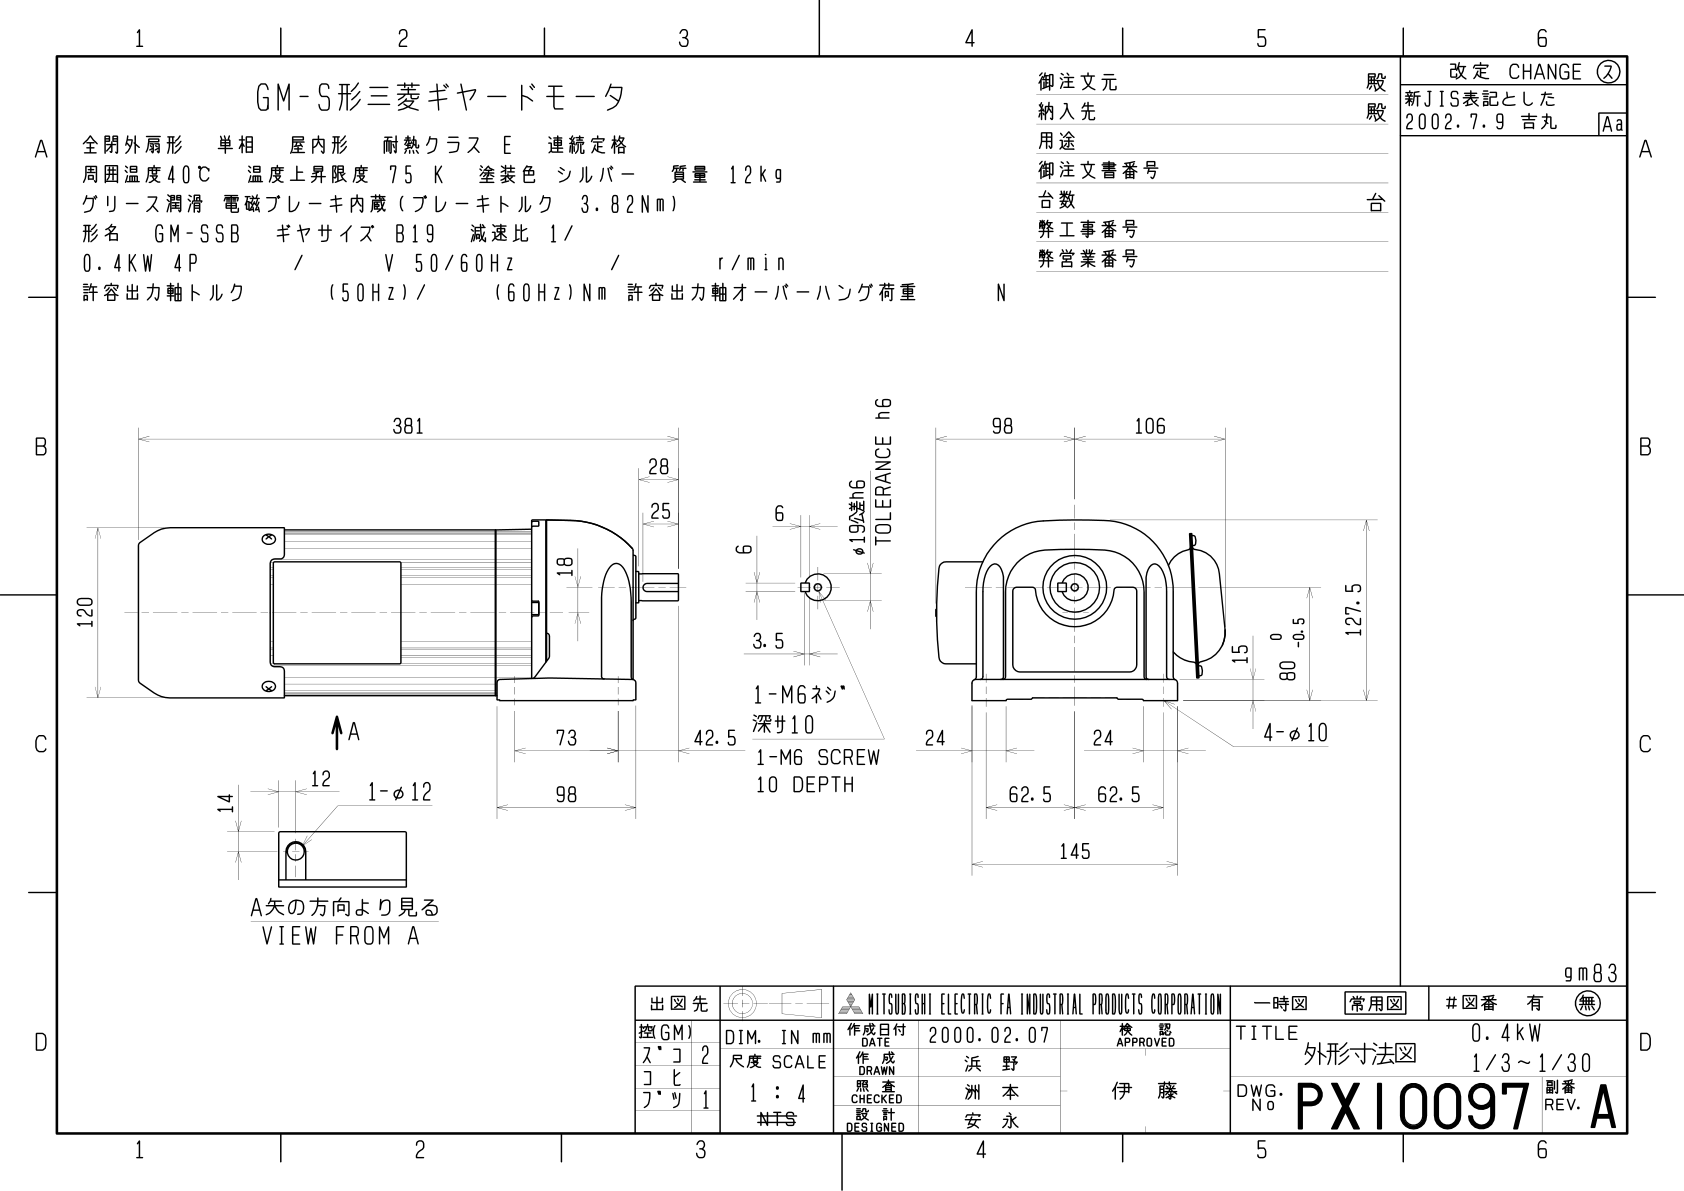GM_S_屋内＿三相_脚: (71, 371, 1386, 956)
